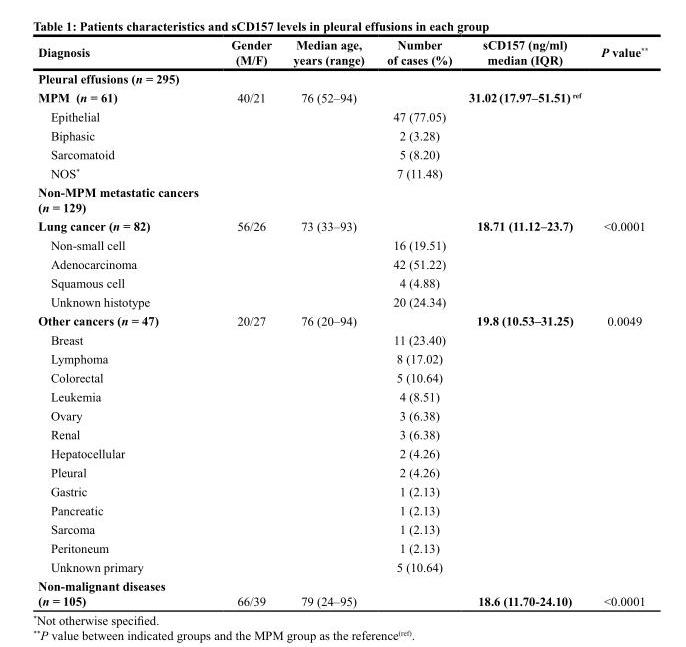table: (37, 37, 647, 607)
table column: (37, 37, 214, 607), (459, 37, 590, 607), (281, 37, 374, 607), (374, 37, 459, 607), (214, 37, 281, 607), (590, 37, 647, 607)
table column header: (37, 37, 647, 68)
table projected row header: (37, 182, 647, 216), (37, 68, 647, 87)
table row: (37, 182, 647, 216), (37, 37, 647, 68), (37, 576, 647, 607), (37, 68, 647, 87), (37, 87, 647, 106), (37, 106, 647, 125), (37, 125, 647, 144), (37, 144, 647, 163), (37, 163, 647, 182), (37, 216, 647, 235), (37, 235, 647, 254), (37, 254, 647, 273), (37, 273, 647, 292), (37, 310, 647, 329), (37, 329, 647, 348), (37, 348, 647, 367), (37, 367, 647, 386), (37, 386, 647, 405), (37, 405, 647, 424), (37, 424, 647, 443), (37, 443, 647, 462), (37, 462, 647, 481), (37, 481, 647, 500), (37, 500, 647, 519), (37, 519, 647, 538), (37, 538, 647, 557), (37, 557, 647, 576), (37, 292, 647, 310)
